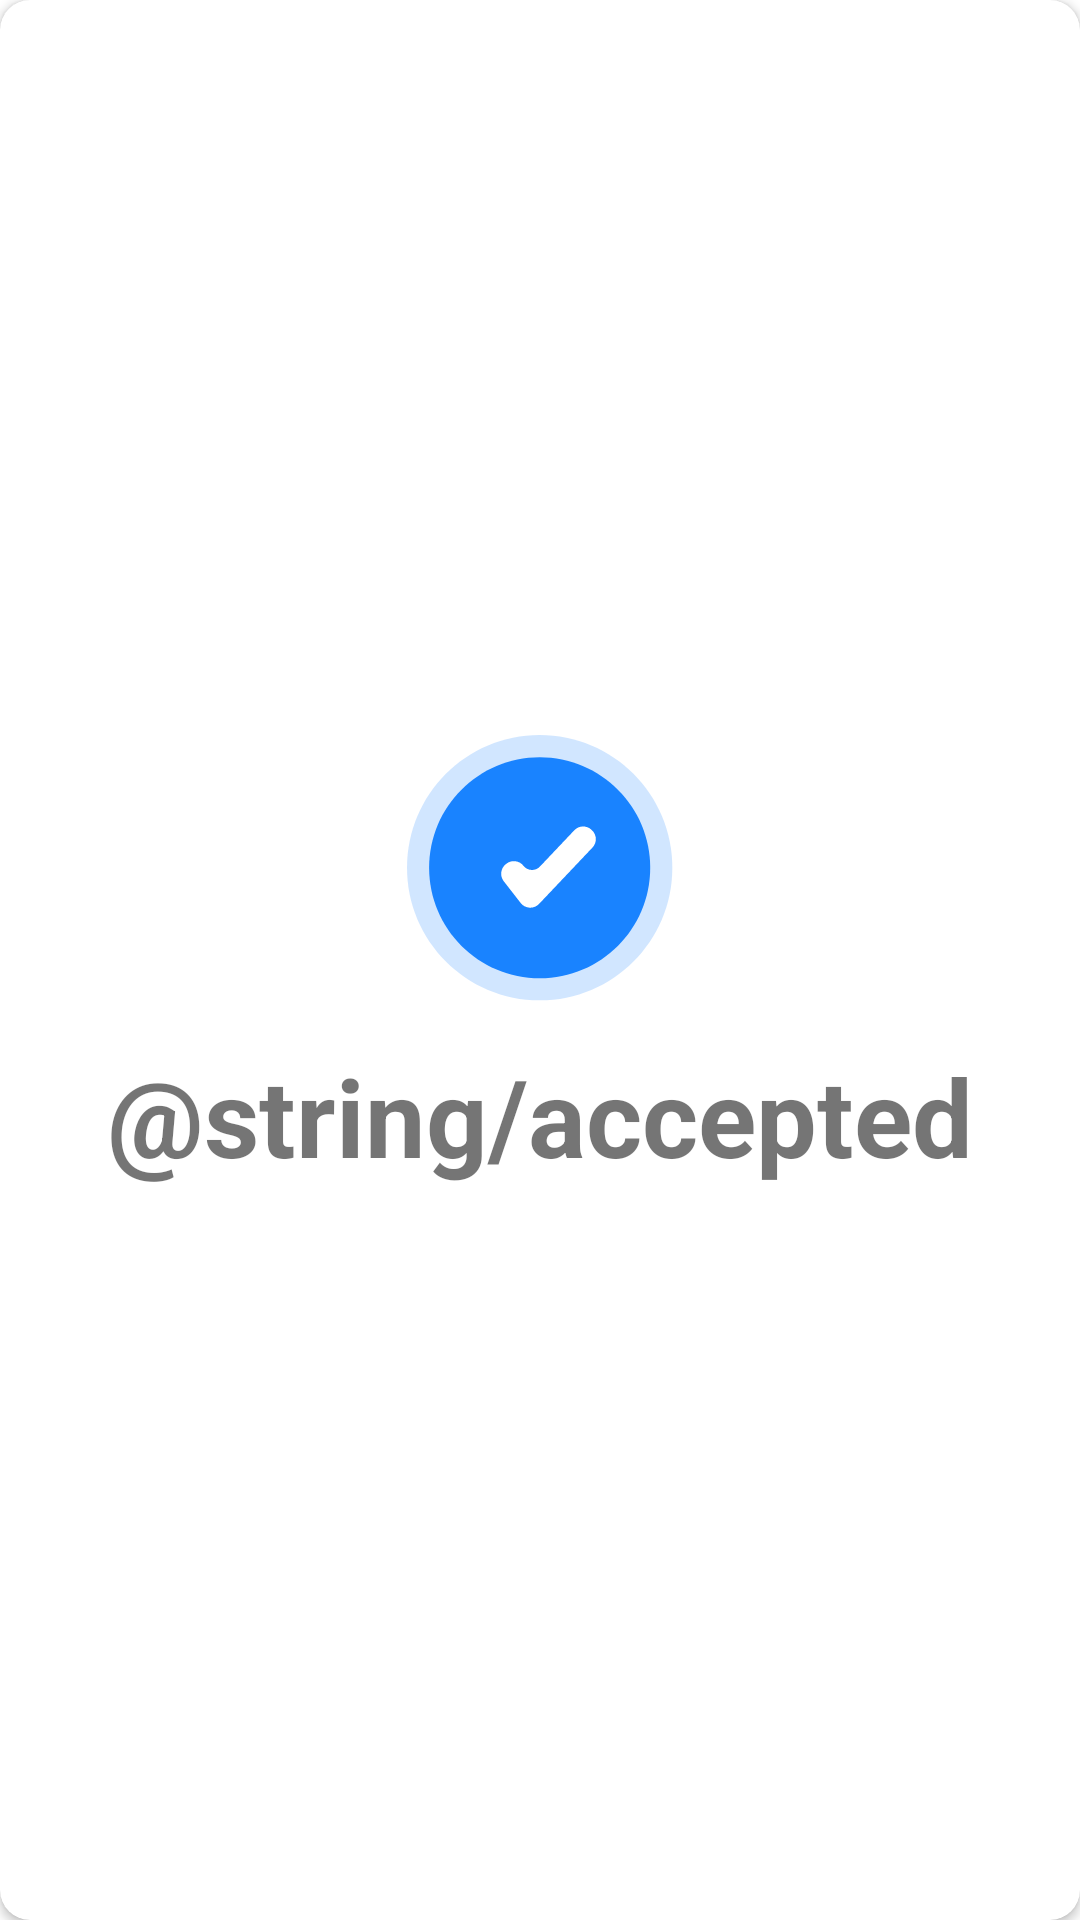

Icon bounding boxes for this 1080×1920 phone screenshot, format (x1, y1, x2, y2):
check circle: (407, 735, 672, 1000)
